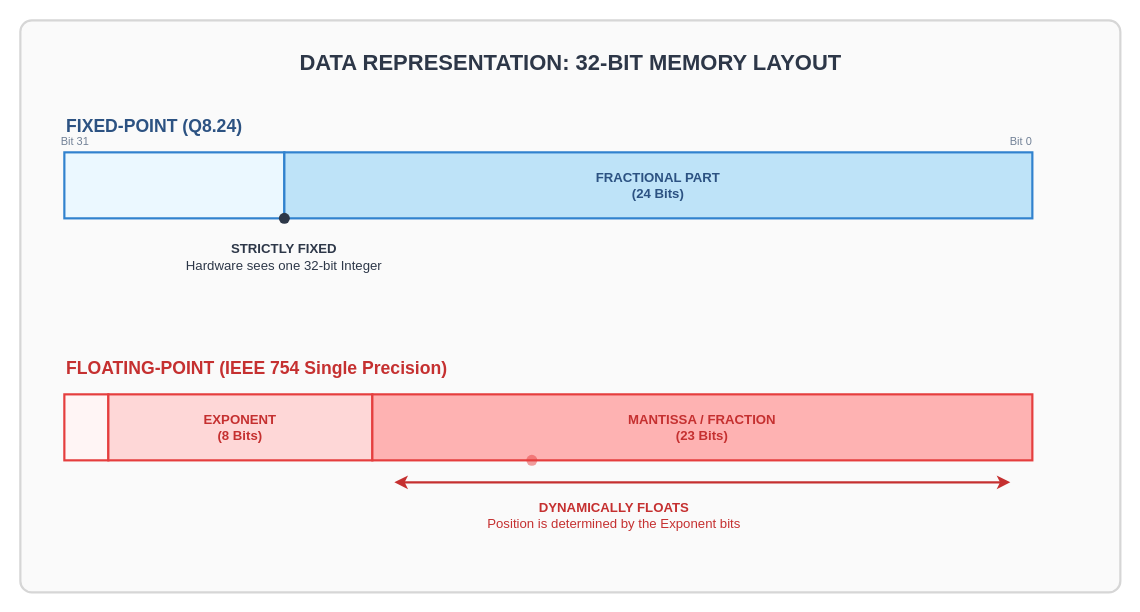
The diagram is 1140 pixels wide and 612 high, and some of its shapes have lost their labels. Each missing label, with the box of its shape:
INTEGER PART (8 Bits): (63, 151, 285, 219)
S (1): (63, 393, 109, 461)
